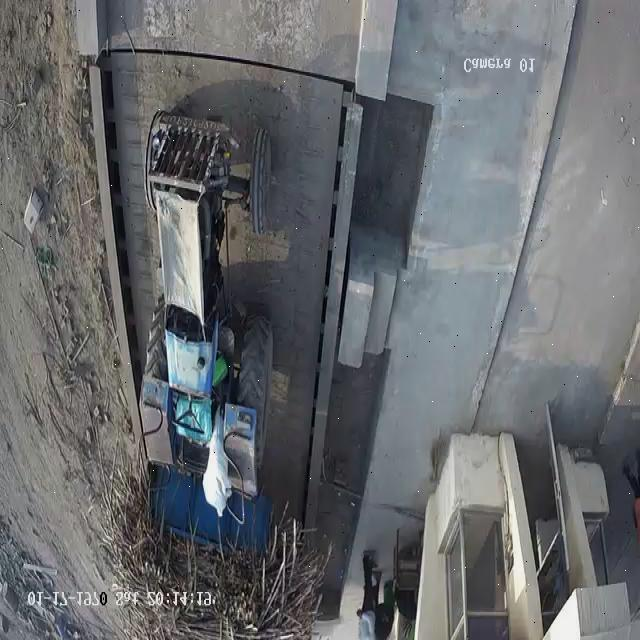Tratores - v5 YOLO V8L 2024-11-13: (139, 120, 282, 482)
